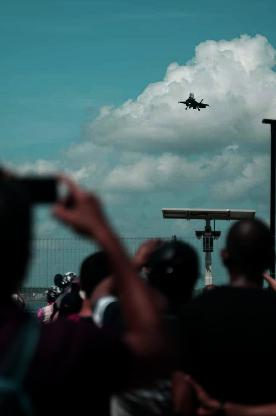F22: (176, 93, 209, 111)
